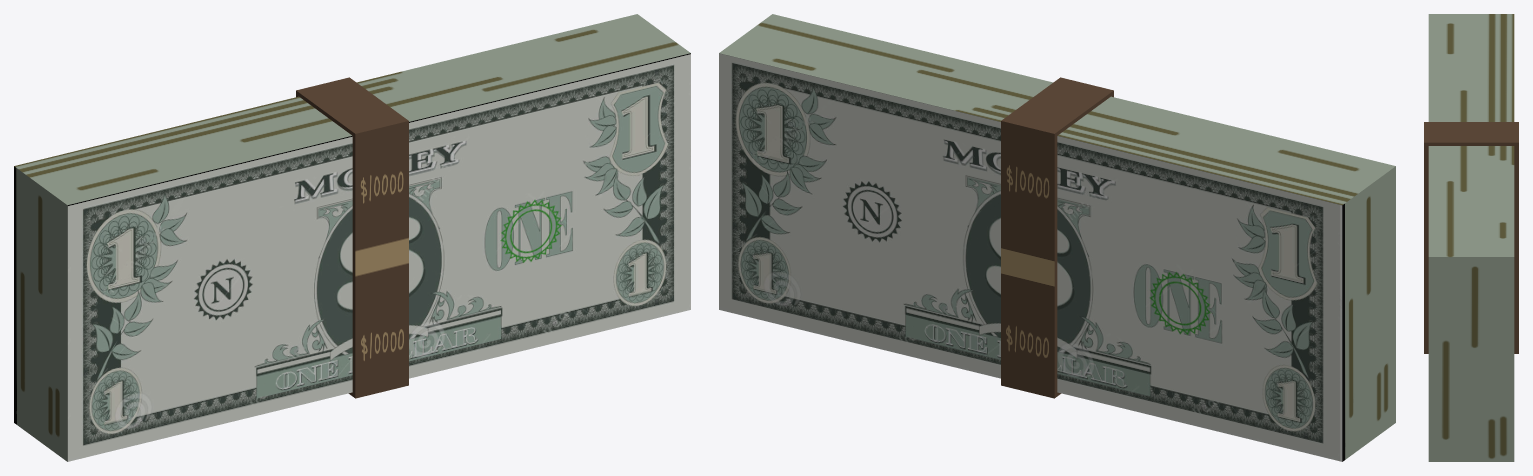
The model's file is item3 - money.fbx.
The picture shows the model from 3 angles, left to right: view 1: azimuth 30°, elevation 25°; view 2: azimuth 150°, elevation 25°; view 3: azimuth 270°, elevation 25°; orthographic projection. The views are drawn at different scales.
Visible parts, largest first — view 1: pCube1, pCube2; view 2: pCube1, pCube2; view 3: pCube1, pCube2.
Boxes of the visible parts, left/top/right/bottom form: pCube1: left=14, top=14, right=690, bottom=461; pCube2: left=296, top=77, right=408, bottom=398; pCube1: left=719, top=14, right=1395, bottom=461; pCube2: left=1001, top=77, right=1113, bottom=398; pCube1: left=1428, top=14, right=1514, bottom=461; pCube2: left=1424, top=122, right=1518, bottom=353.
Size of the model in its own units: 6.37 by 2.58 by 1.05.
1 material, 1 textured.
